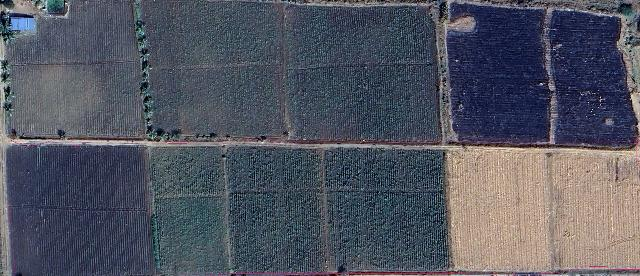DryFarms: (447, 153, 553, 271), (551, 152, 640, 276)
EmptyFarms: (8, 147, 158, 276), (448, 2, 553, 146), (548, 14, 634, 147)
Farms: (283, 5, 438, 146), (137, 4, 283, 139), (8, 1, 143, 140), (323, 149, 450, 276), (226, 151, 330, 276), (150, 149, 232, 276), (44, 0, 65, 17)
